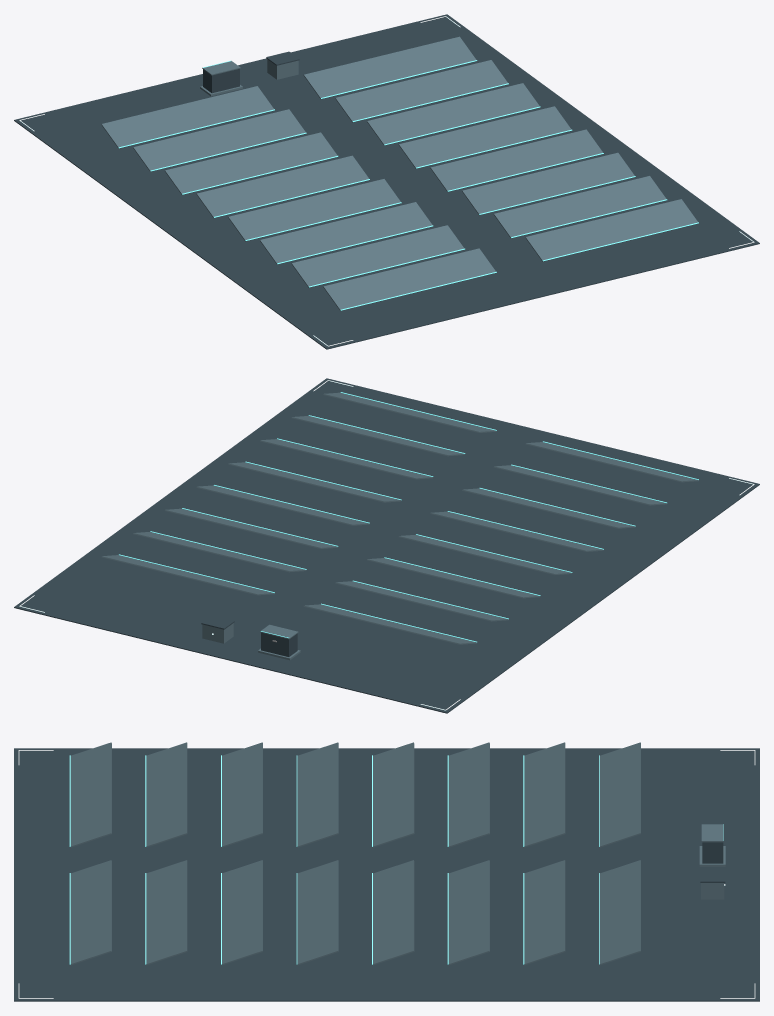
The model's file is solar_array.lod2.glb.
3 views of the same model, one above another, from view 1: azimuth 30°, elevation 25°; view 2: azimuth 150°, elevation 25°; view 3: azimuth 270°, elevation 25° (orthographic). The views are drawn at different scales.
Visible parts, largest first — view 1: solar_array_graphite_light.002, solar_array_graphite.002, solar_array_edge.002; view 2: solar_array_graphite.002, solar_array_graphite_light.002, solar_array_edge.002; view 3: solar_array_graphite.002, solar_array_graphite_light.002, solar_array_edge.002.
Boxes of the visible parts, x1,y1,x2,y2 form: solar_array_graphite_light.002: (101,36,698,310); solar_array_graphite.002: (14,14,759,349); solar_array_edge.002: (118,60,698,310); solar_array_graphite.002: (14,378,759,713); solar_array_graphite_light.002: (101,392,698,660); solar_array_edge.002: (119,392,698,642); solar_array_graphite.002: (14,748,759,1001); solar_array_graphite_light.002: (70,742,725,965); solar_array_edge.002: (69,755,723,964).
Bounding box in the file's own units: 120 × 6.44 × 150.
